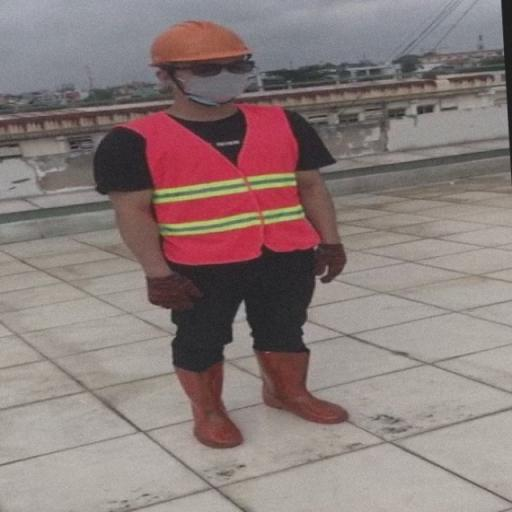Person: (88, 2, 370, 464)
boots: (254, 336, 346, 428), (170, 350, 250, 452)
gloves: (144, 272, 202, 315), (308, 241, 354, 278)
goggles: (152, 50, 257, 74)
helmet: (147, 18, 258, 60)
vest: (116, 99, 334, 260)
